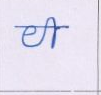i_matra: (47, 16, 59, 49)
